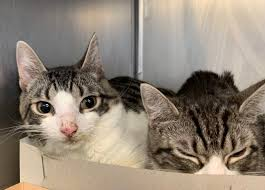cat: (11, 33, 142, 160)
